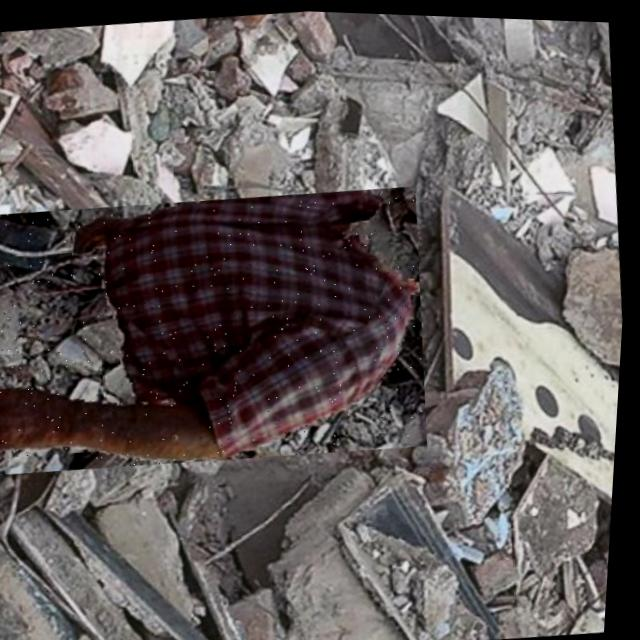Person in Rubble: (0, 170, 443, 487)
